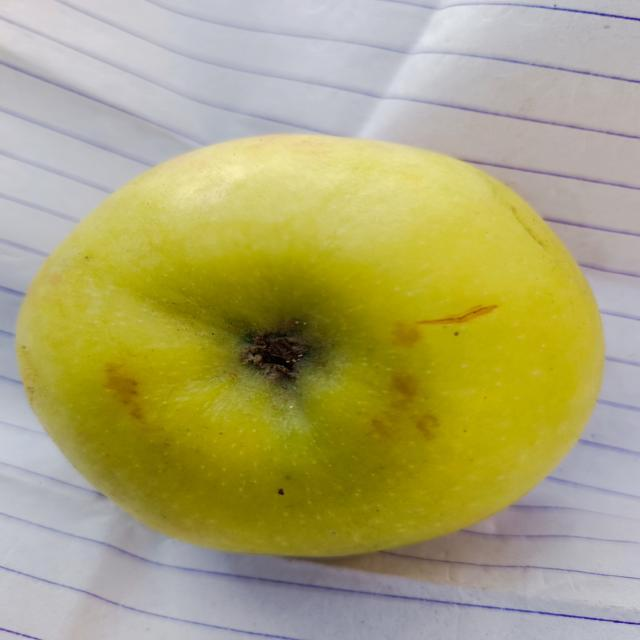Rotten: (21, 125, 616, 555)
